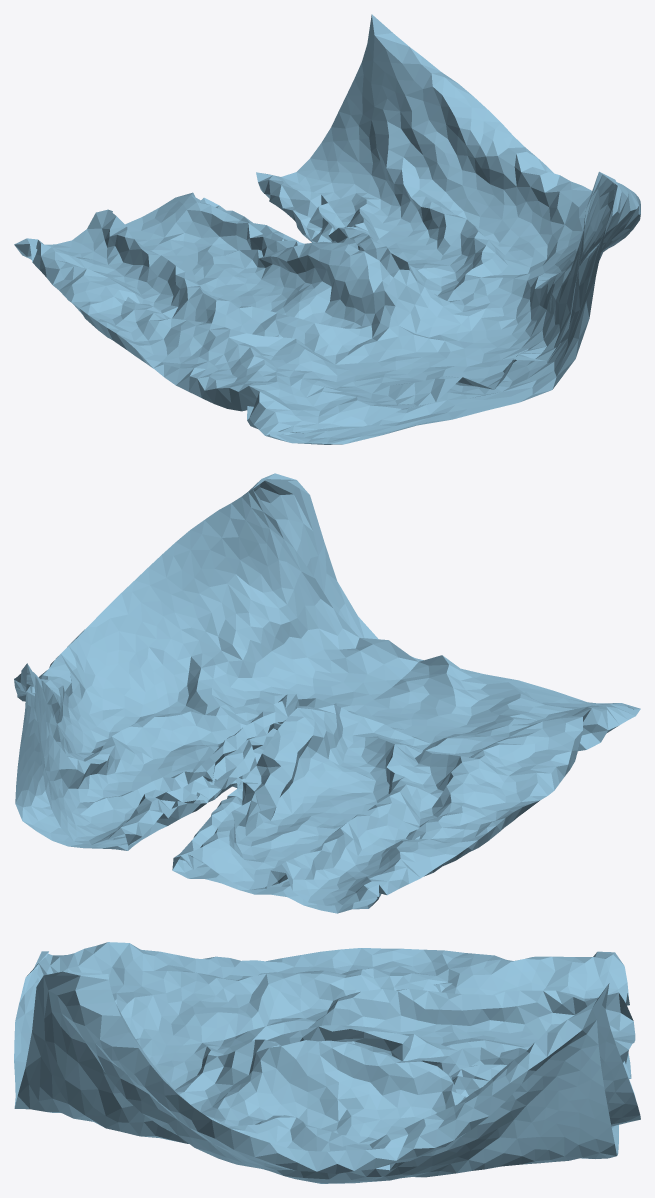
Rendered from frame_06.glb.
3 views of the same model, one above another, from view 1: azimuth 30°, elevation 25°; view 2: azimuth 150°, elevation 25°; view 3: azimuth 270°, elevation 25° (orthographic). The views are drawn at different scales.
Parts seen in each view (by area): view 1: frame_06.obj; view 2: frame_06.obj; view 3: frame_06.obj.
Part boxes in pixels (<box>): frame_06.obj: <box>14,14,640,444</box>; frame_06.obj: <box>14,473,640,913</box>; frame_06.obj: <box>14,942,640,1183</box>.
Size of the model in its own units: 1.43 by 0.531 by 1.5.
